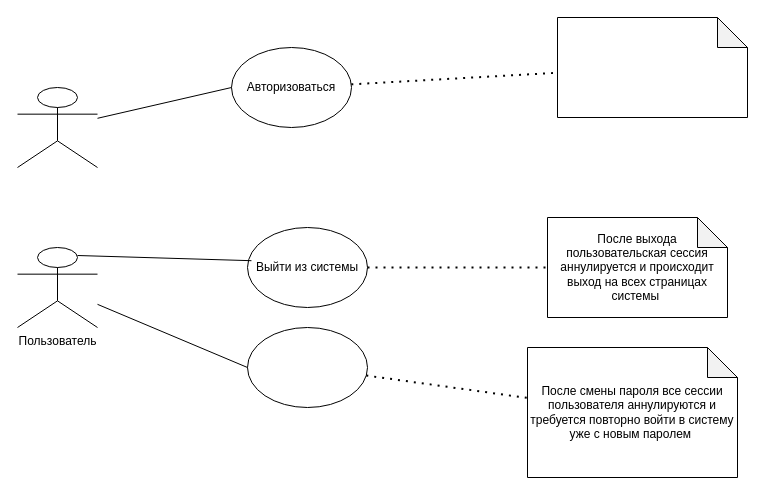
This 765x495 diagram has some shape labels left out. Here are the shapes that lost their labels. From the top down, the box of each, then its label:
(556, 16, 748, 118): Авторизация доступна по средством связки логин + пароль или посредством токена
(16, 86, 98, 168): Гость
(246, 326, 368, 408): Сменить пароль
